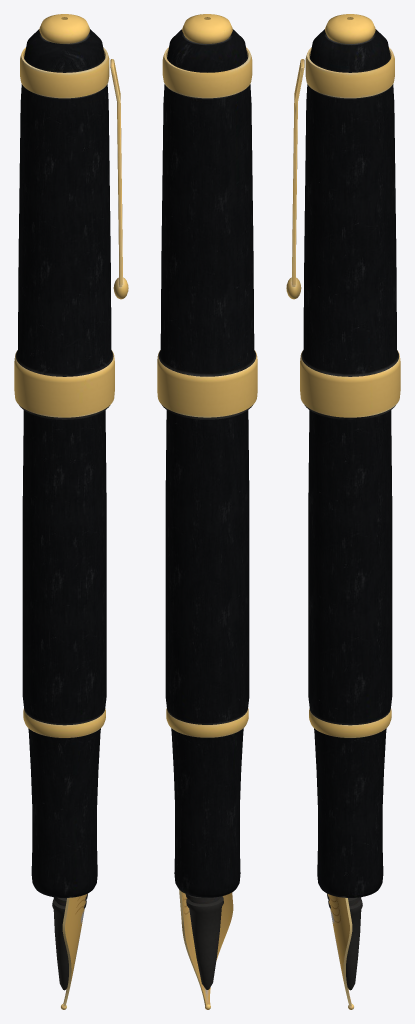
Rendered from corner_pen.glb.
3 views of the same model, side by side, from view 1: azimuth 90°, elevation 25°; view 2: azimuth 210°, elevation 25°; view 3: azimuth 270°, elevation 25° (orthographic).
Visible parts, largest first — view 1: Pen; view 2: Pen; view 3: Pen.
Part boxes in pixels (<box>): Pen: <box>14,14,128,1009</box>; Pen: <box>157,14,257,1009</box>; Pen: <box>286,14,400,1009</box>.
Bounding box in the file's own units: 0.0146 × 0.1589 × 0.0166.
Materials: 1 (1 with a texture image).
